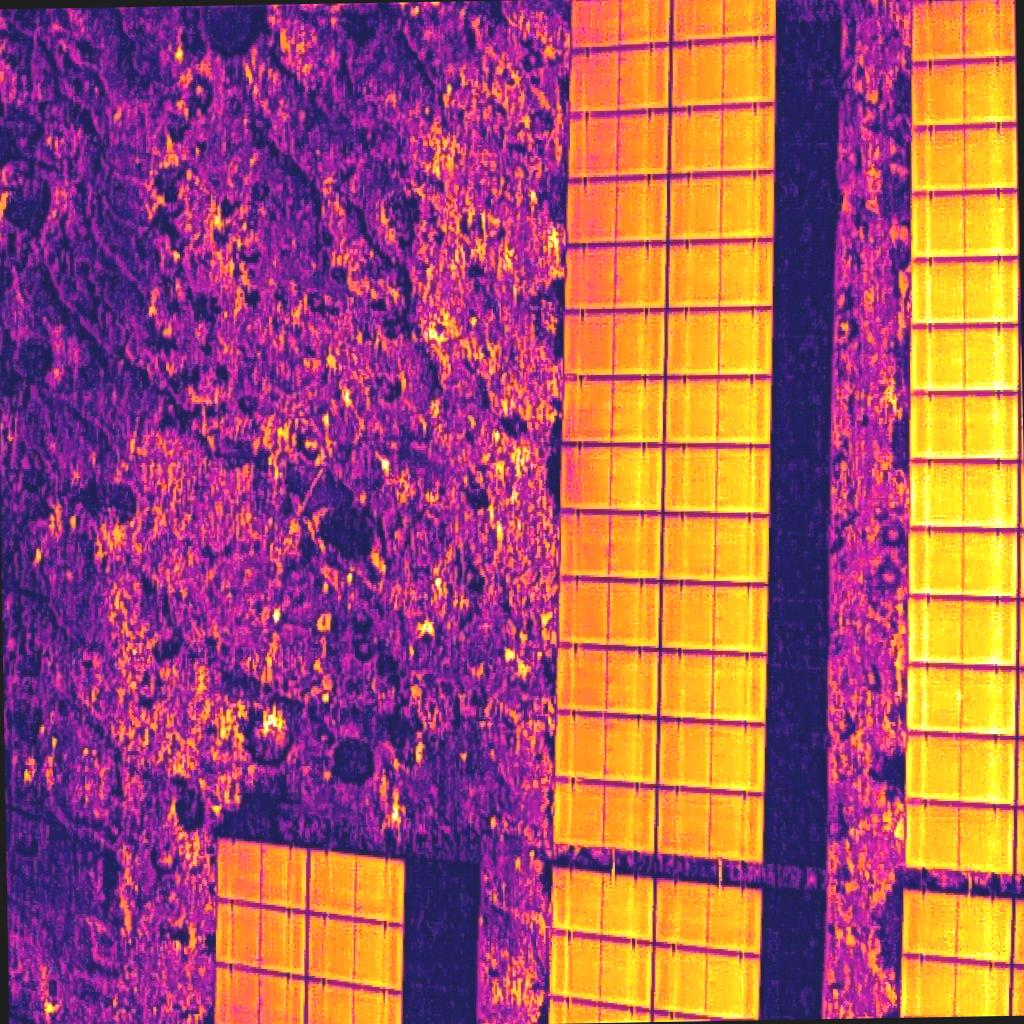panel: (656, 786, 763, 862), (307, 914, 401, 991), (561, 444, 661, 509)
